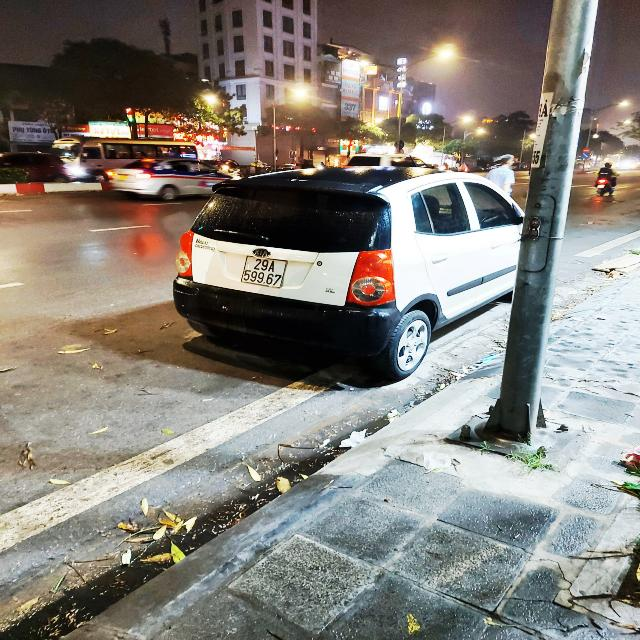license_plate: (235, 254, 293, 294)
